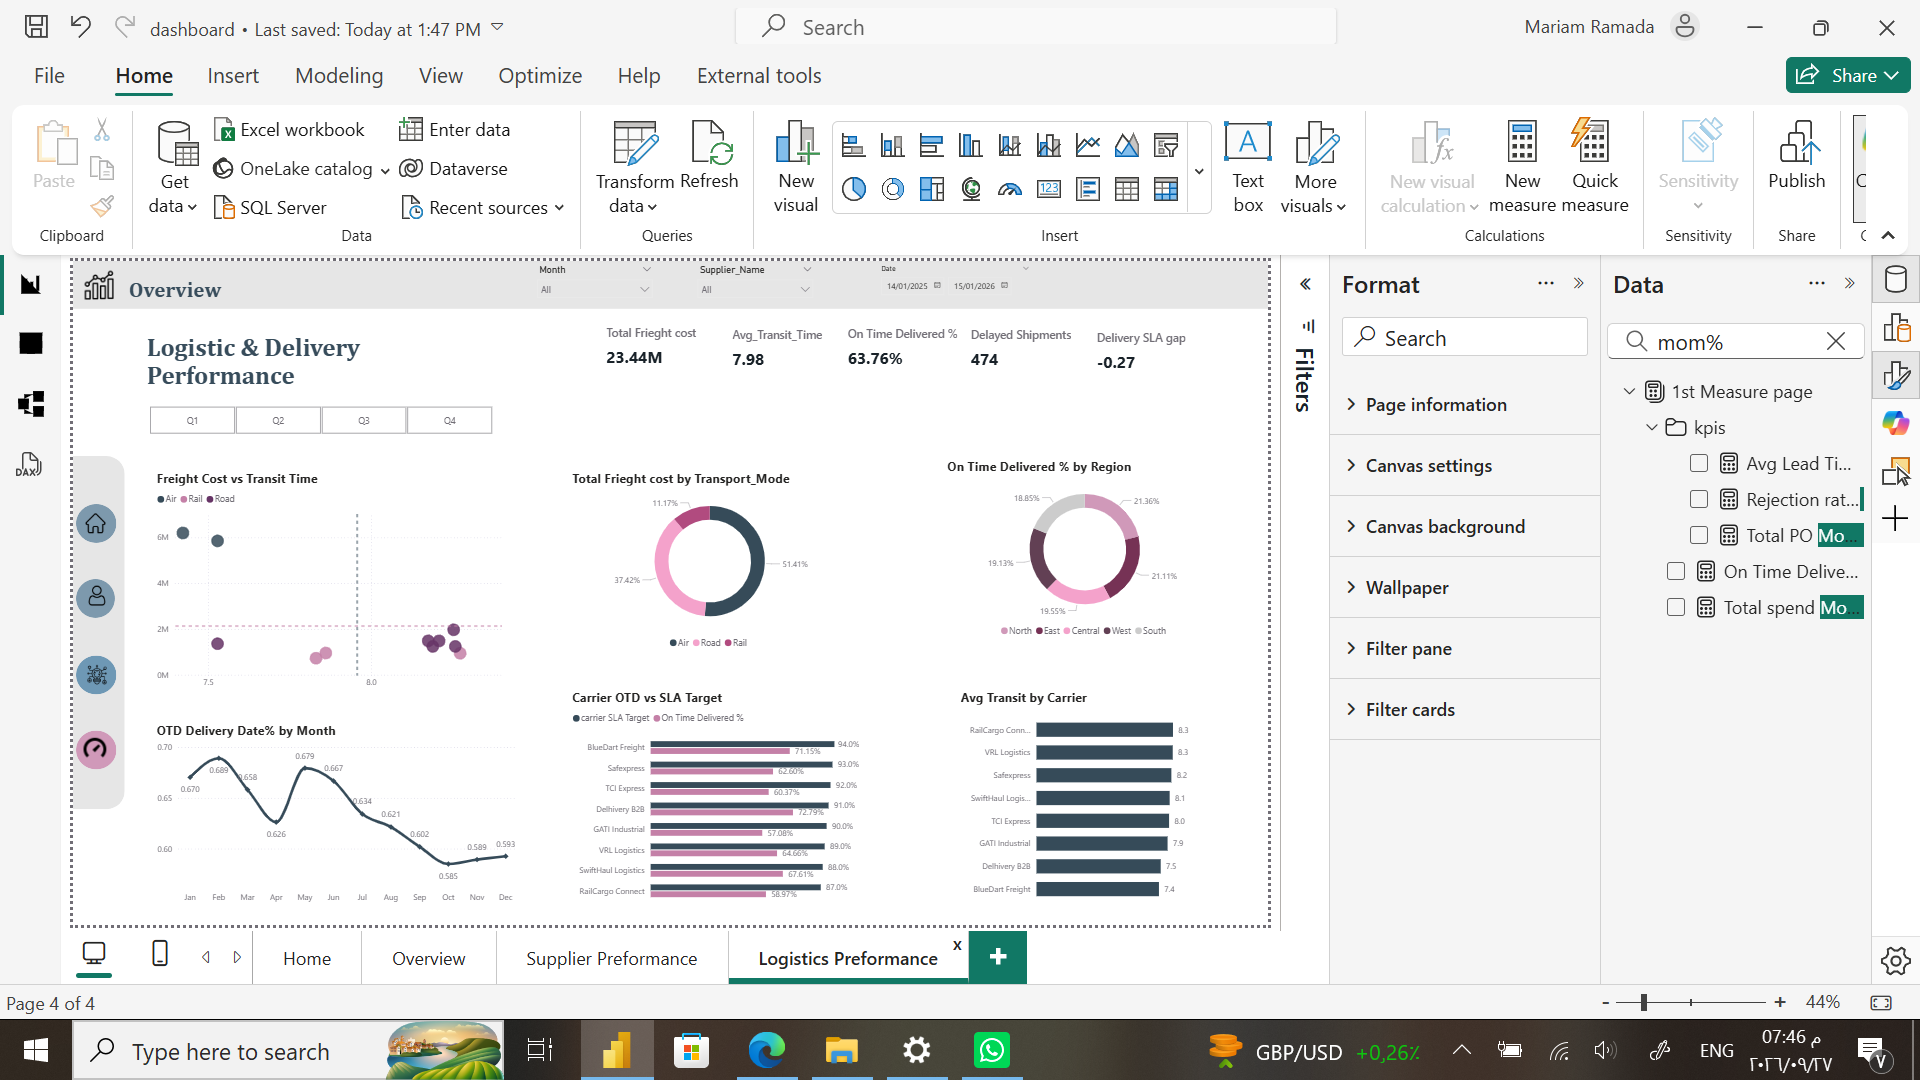

This screenshot's page, from the dashboard's own definition file:
{"tool":"powerbi","page":{"name":"Logistics Preformance","canvas":[1800,1000],"ordinal":3},"visuals":[{"type":"shape","box":[0,0,1800.5,72.3],"z":0},{"type":"shape","box":[0,293,78,532],"z":1000},{"type":"textbox","box":[79.1,0,293.7,72.3],"z":2000},{"type":"image","box":[0,9,79.1,54.2],"z":3000},{"type":"textbox","box":[106.2,101.7,490.2,110.7],"z":4000},{"type":"shape","box":[4.5,366,61,58.7],"z":5000},{"type":"shape","box":[4.5,479.7,58.7,58.7],"z":6000},{"type":"shape","box":[4.5,593.4,61,58.7],"z":7000},{"type":"shape","box":[4.5,707.1,61,58.7],"z":8000},{"type":"image","box":[15.8,594.1,40,58],"z":9000},{"type":"cardVisual","fields":{"Data":["3rd Page Measures.Total Frieght cost"]},"box":[786.2,79.1,216.9,97.1],"z":10000},{"type":"cardVisual","fields":{"Data":["3rd Page Measures.Avg_Transit_Time"]},"box":[975.9,81.3,228.2,97.1],"z":11000},{"type":"cardVisual","fields":{"Data":["1st Measure page.On Time Delivered %"]},"box":[1149.9,79.1,221.4,99.4],"z":12000},{"type":"cardVisual","fields":{"Data":["1st Measure page.Delayed Shipments"]},"box":[1335.1,81.3,234.9,97.1],"z":13000},{"type":"cardVisual","fields":{"Data":["3rd Page Measures.Delivery SLA gap"]},"box":[1524.9,85.8,246.2,97.1],"z":14000},{"type":"image","box":[13.6,372.7,40.7,45.2],"z":15000},{"type":"image","box":[15.8,478.9,40.7,49.7],"z":16000},{"type":"image","box":[9,702.6,47.4,65.5],"z":17000},{"type":"slicer","fields":{"Values":["Dim_date.Month"]},"box":[689,0,194.3,72.3],"z":18000},{"type":"slicer","fields":{"Values":["dim_supplier.Supplier_Name"]},"box":[930.7,0,194.3,72.3],"z":19000},{"type":"slicer","fields":{"Values":["Dim_date.Date"]},"box":[1204.1,0,248.5,72.3],"z":20000},{"type":"slicer","fields":{"Values":["Dim_date.Quarter"]},"box":[90.4,212.4,564.8,54.2],"z":21000},{"type":"scatterChart","title":"Freight Cost vs Transit Time","fields":{"X":["3rd Page Measures.Avg_Transit_Time"],"Y":["3rd Page Measures.Total Frieght cost"],"Category":["dim_carrier.Carrier_Name"],"Series":["fact_procurement.Transport_Mode"]},"box":[106.2,293.7,567,359.2],"z":22000},{"type":"clusteredBarChart","title":"Carrier OTD vs SLA Target ","fields":{"Category":["dim_carrier.Carrier_Name"],"Y":["3rd Page Measures.carrier SLA Target","1st Measure page.On Time Delivered %"]},"box":[731.9,623.5,472.1,352.4],"z":23000},{"type":"donutChart","fields":{"Category":["fact_procurement.Transport_Mode"],"Y":["3rd Page Measures.Total Frieght cost"]},"box":[731.9,293.7,454.1,300.5],"z":24000},{"type":"clusteredBarChart","title":"Avg Transit by Carrier","fields":{"Category":["dim_carrier.Carrier_Name"],"Y":["3rd Page Measures.Avg_Transit_Time"]},"box":[1317,623.5,454.1,352.4],"z":25000},{"type":"donutChart","fields":{"Category":["dim_warehouse.Region"],"Y":["1st Measure page.On Time Delivered %"]},"box":[1296.7,275.6,454.1,300.5],"z":26000},{"type":"lineChart","fields":{"Category":["Dim_date.Month"],"Y":["3rd Page Measures.OTD Delivery Date%"]},"box":[106.2,673.2,582.8,302.7],"z":27000}]}

Visuals, with their boxes on the page's 1800x1000 design canvas (x1, y1, x2, y2). These are canvas units, not pixel positions in the 1920x1080 screenshot, which may show the page scaled, cropped or inside an application window:
shape: left=0, top=0, right=1800, bottom=72
shape: left=0, top=293, right=78, bottom=825
textbox: left=79, top=0, right=373, bottom=72
image: left=0, top=9, right=79, bottom=63
textbox: left=106, top=102, right=596, bottom=212
shape: left=4, top=366, right=66, bottom=425
shape: left=4, top=480, right=63, bottom=538
shape: left=4, top=593, right=66, bottom=652
shape: left=4, top=707, right=66, bottom=766
image: left=16, top=594, right=56, bottom=652
cardVisual - 3rd Page Measures.Total Frieght cost: left=786, top=79, right=1003, bottom=176
cardVisual - 3rd Page Measures.Avg_Transit_Time: left=976, top=81, right=1204, bottom=178
cardVisual - 1st Measure page.On Time Delivered %: left=1150, top=79, right=1371, bottom=178
cardVisual - 1st Measure page.Delayed Shipments: left=1335, top=81, right=1570, bottom=178
cardVisual - 3rd Page Measures.Delivery SLA gap: left=1525, top=86, right=1771, bottom=183
image: left=14, top=373, right=54, bottom=418
image: left=16, top=479, right=56, bottom=529
image: left=9, top=703, right=56, bottom=768
slicer - Dim_date.Month: left=689, top=0, right=883, bottom=72
slicer - dim_supplier.Supplier_Name: left=931, top=0, right=1125, bottom=72
slicer - Dim_date.Date: left=1204, top=0, right=1453, bottom=72
slicer - Dim_date.Quarter: left=90, top=212, right=655, bottom=267
"Freight Cost vs Transit Time" scatterChart: left=106, top=294, right=673, bottom=653
"Carrier OTD vs SLA Target " clusteredBarChart: left=732, top=624, right=1204, bottom=976
donutChart - fact_procurement.Transport_Mode x 3rd Page Measures.Total Frieght cost: left=732, top=294, right=1186, bottom=594
"Avg Transit by Carrier" clusteredBarChart: left=1317, top=624, right=1771, bottom=976
donutChart - dim_warehouse.Region x 1st Measure page.On Time Delivered %: left=1297, top=276, right=1751, bottom=576
lineChart - Dim_date.Month x 3rd Page Measures.OTD Delivery Date%: left=106, top=673, right=689, bottom=976
